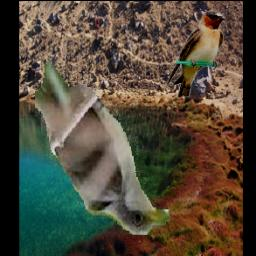Cuckoo: (36, 57, 171, 236)
Swallow: (166, 10, 226, 97)
